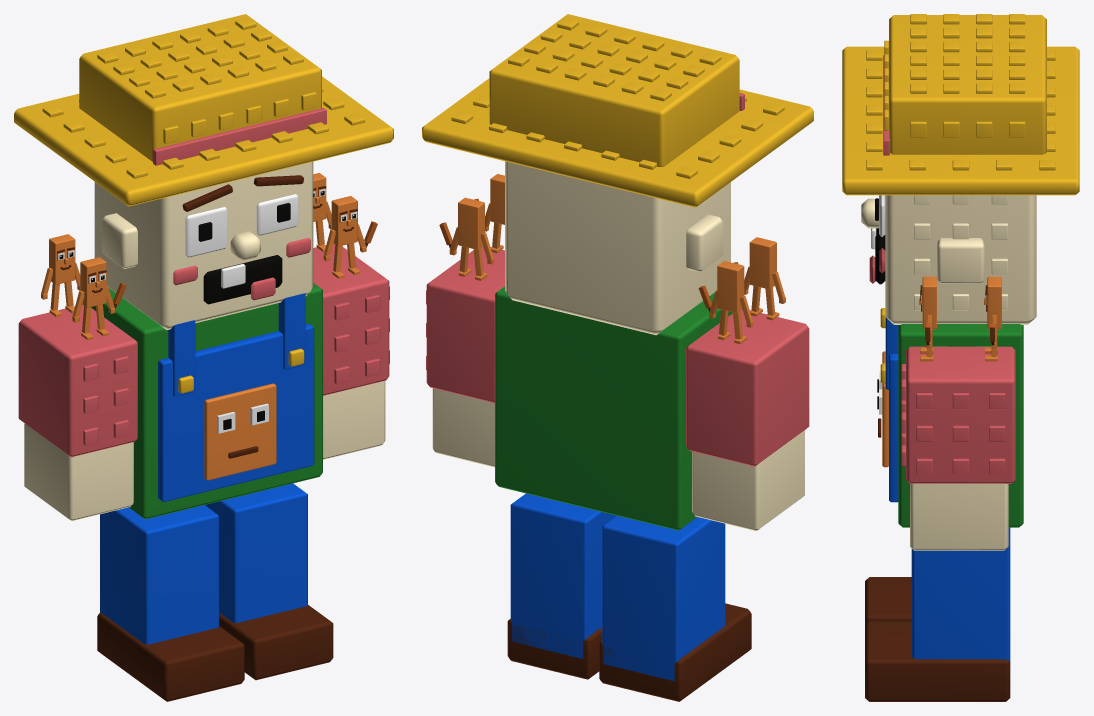
File: Shopkeeper.glb
3 renders of one model, left to right at view 1: azimuth 30°, elevation 25°; view 2: azimuth 150°, elevation 25°; view 3: azimuth 270°, elevation 25°, orthographic. The views are drawn at different scales.
Visible parts, largest first — view 1: Shopkeeper; view 2: Shopkeeper; view 3: Shopkeeper.
Part boxes in pixels (bbox=[...]): Shopkeeper: bbox=[14, 14, 393, 701]; Shopkeeper: bbox=[422, 14, 813, 701]; Shopkeeper: bbox=[842, 14, 1079, 701].
Size of the model in its own units: 4.48 by 7.78 by 2.75.
1 material, 1 textured.
